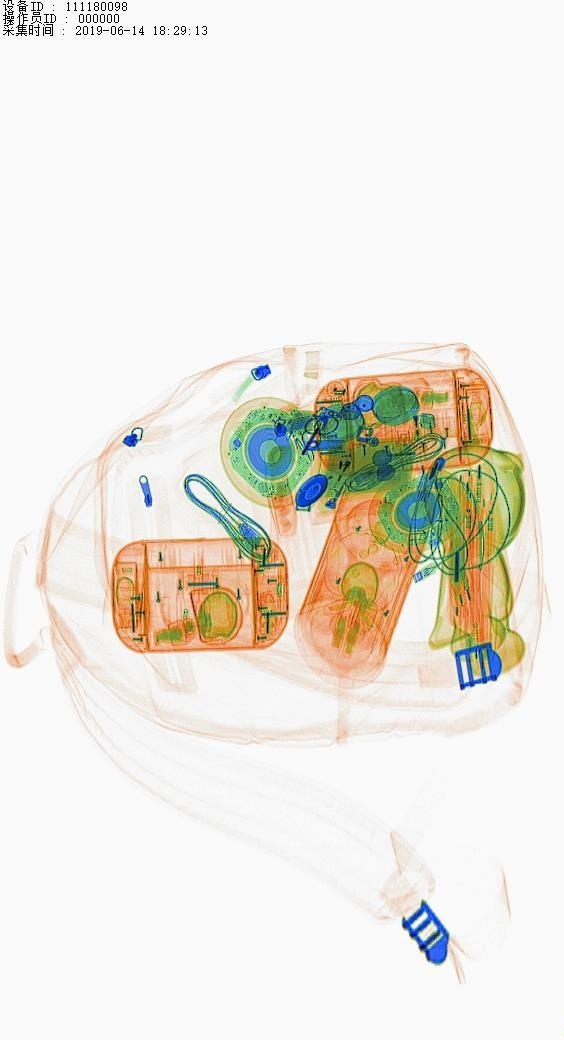NonmetallicFire: (395, 398, 453, 490), (311, 429, 369, 517)
